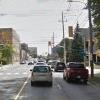Car: (29, 61, 60, 88)
